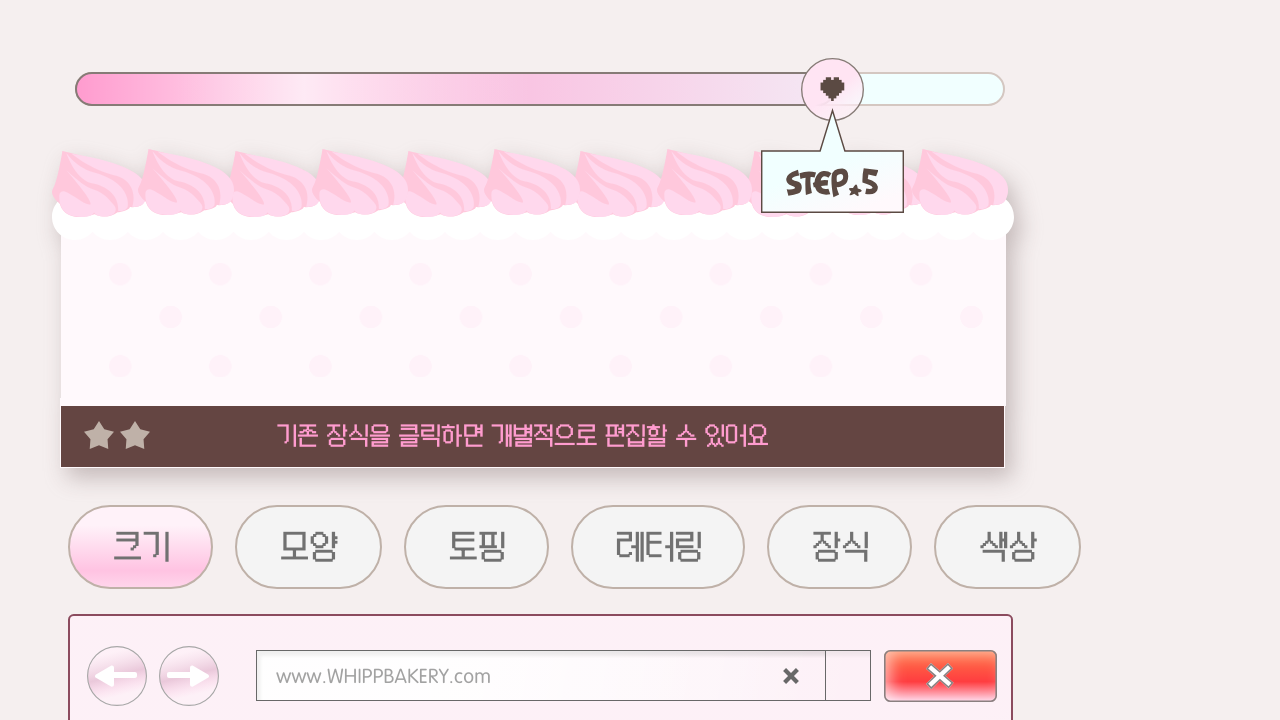
Scenario: EditorScreen 장식 탭 › 장식 탭에는 분류 타일이 나온다
The width and height of the screenshot is (1280, 720).
Click the tab "장식": (840, 546) [767, 502, 912, 590]
(page scrolled)
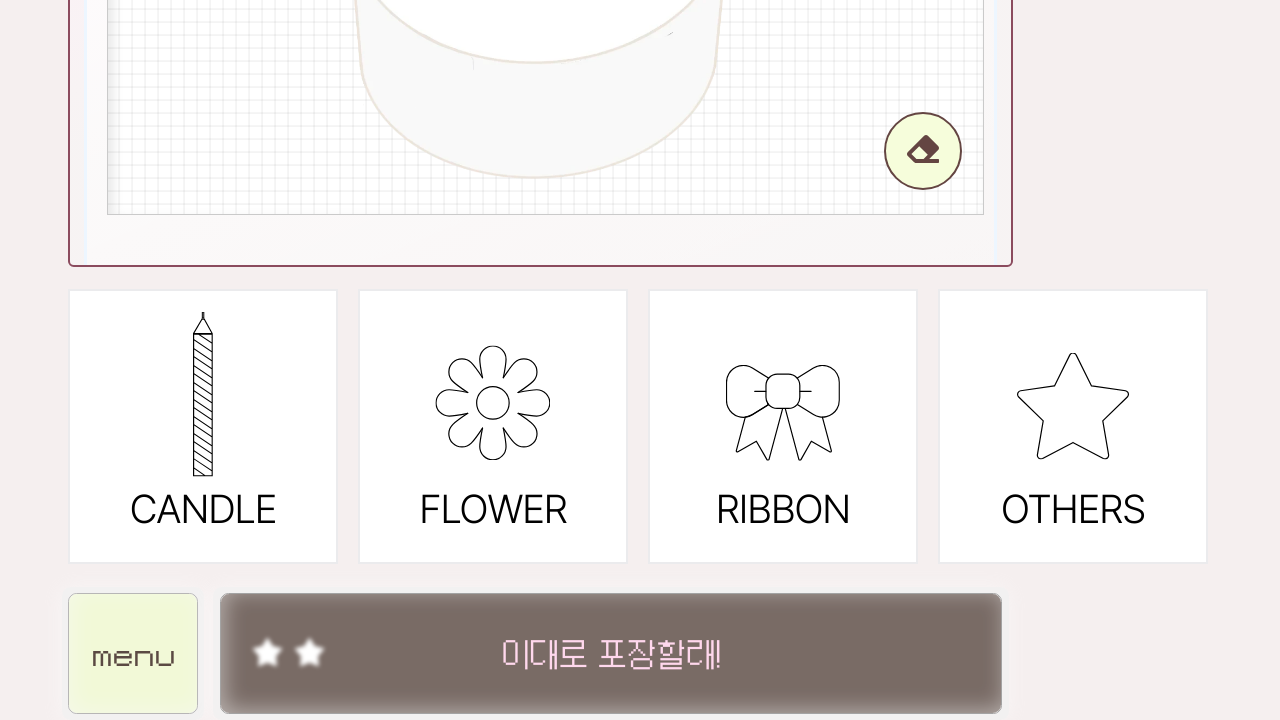
Now the button "CANDLE" is shown, box [68, 289, 338, 564]
Now the button "FLOWER" is shown, box [358, 289, 628, 564]
Now the button "RIBBON" is shown, box [648, 289, 918, 564]
